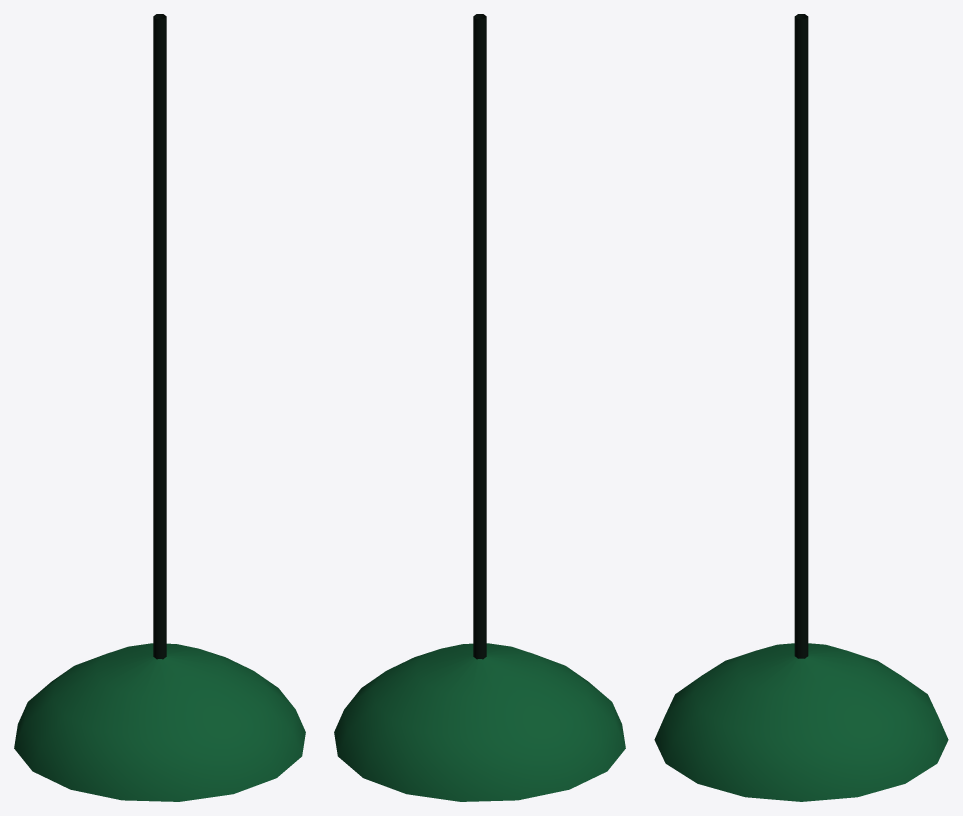
Rendered from lampCeiling.fbx.
3 renders of one model, left to right at view 1: azimuth 30°, elevation 25°; view 2: azimuth 150°, elevation 25°; view 3: azimuth 270°, elevation 25°, orthographic.
Parts seen in each view (by area): view 1: Cube; view 2: Cube; view 3: Cube.
Part boxes in pixels (x1,y1,x2,y2): Cube: (14,14,305,801); Cube: (334,14,625,801); Cube: (654,14,948,801).
Size of the model in its own units: 114 by 309 by 114.
